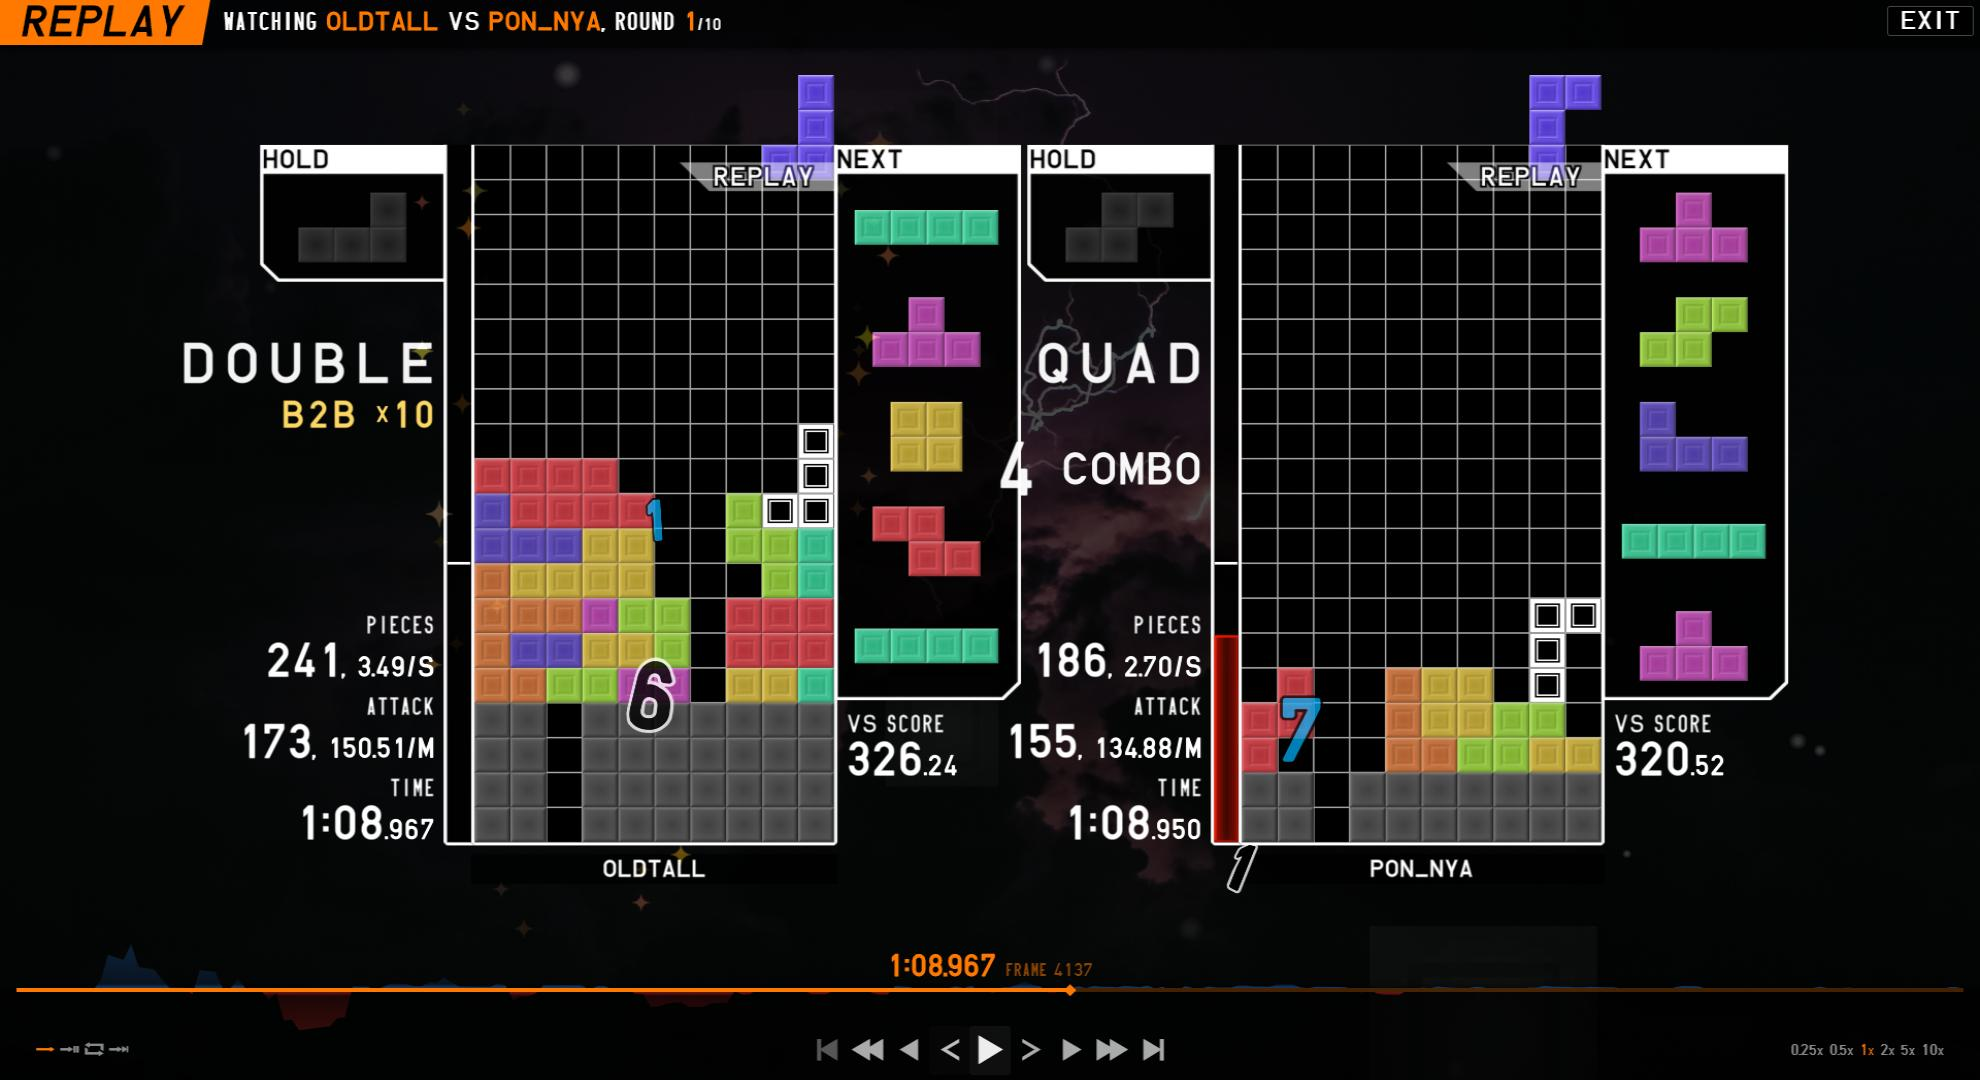tspin: (652, 523, 763, 638), (1273, 700, 1388, 806)
